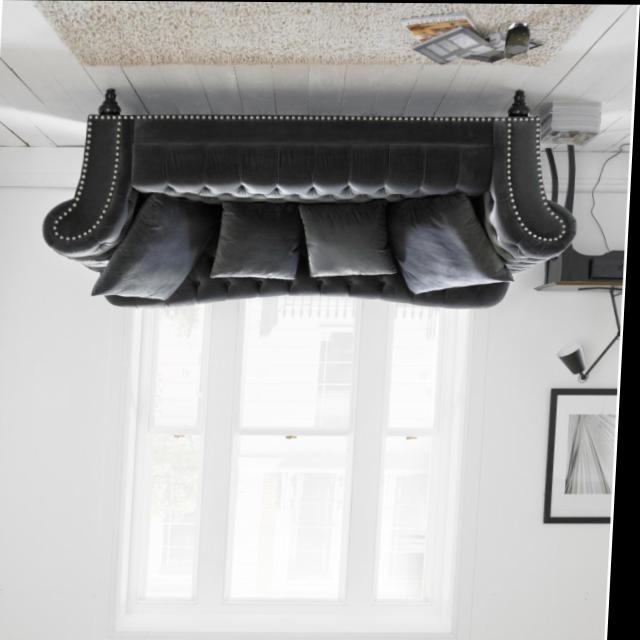Sofa: (43, 88, 585, 311)
